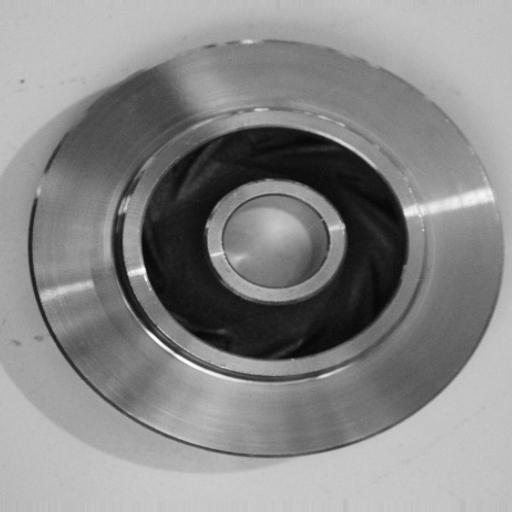scratch: (104, 145, 165, 233), (192, 25, 289, 61), (334, 44, 412, 88), (192, 97, 303, 126), (398, 171, 438, 243), (309, 109, 380, 139), (33, 154, 61, 215)
unpolished_casting: (27, 38, 505, 463)
